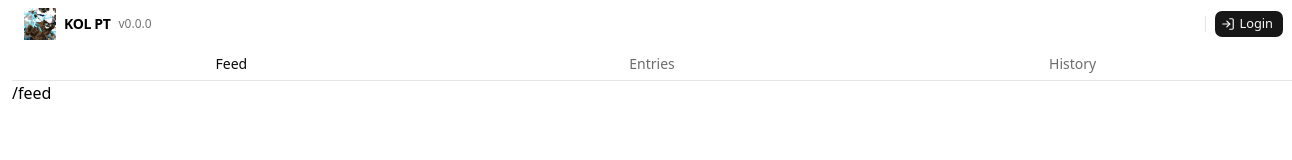
it: header › tabs › navigates when a tab is picked
Click the tab "History" at (1073, 64), box [864,51,1281,77]
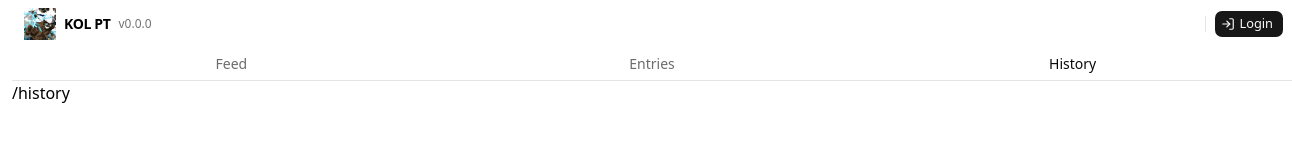
expect the text named "path" reads "/history": met, box [12,82,70,104]
